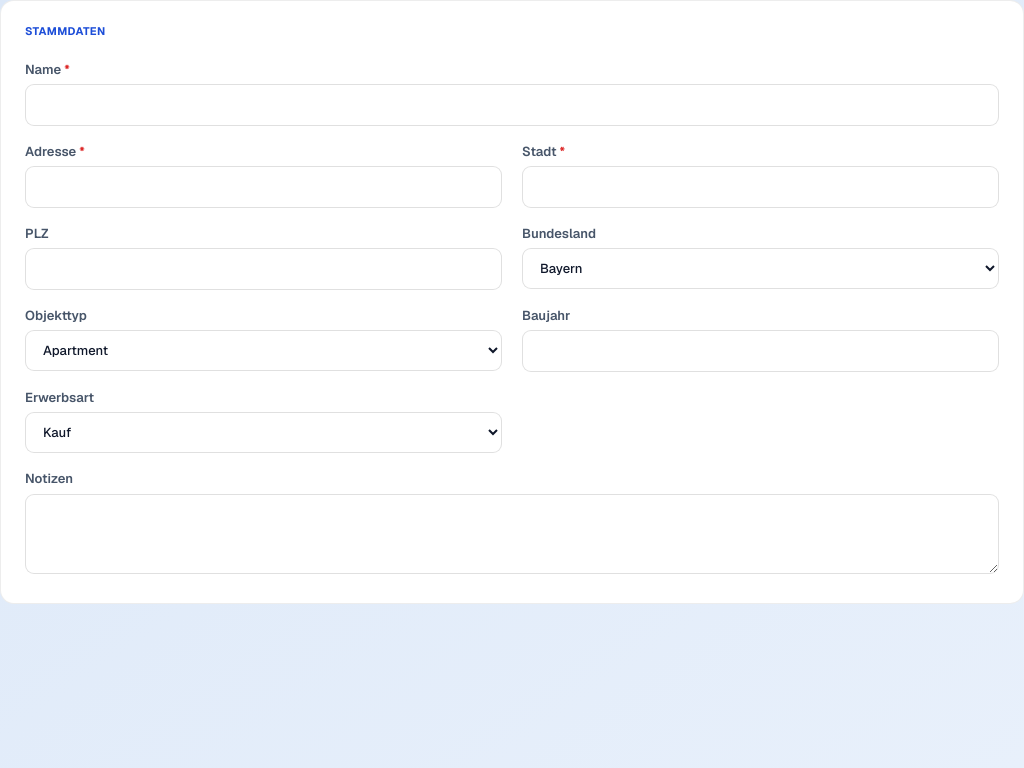
StepStammdaten Bundesland from PLZ › clears the Bundesland and names both candidates for an ambiguous PLZ
Type "65326" into the field labelled "PLZ" at (264, 269), box [25,248,502,290]
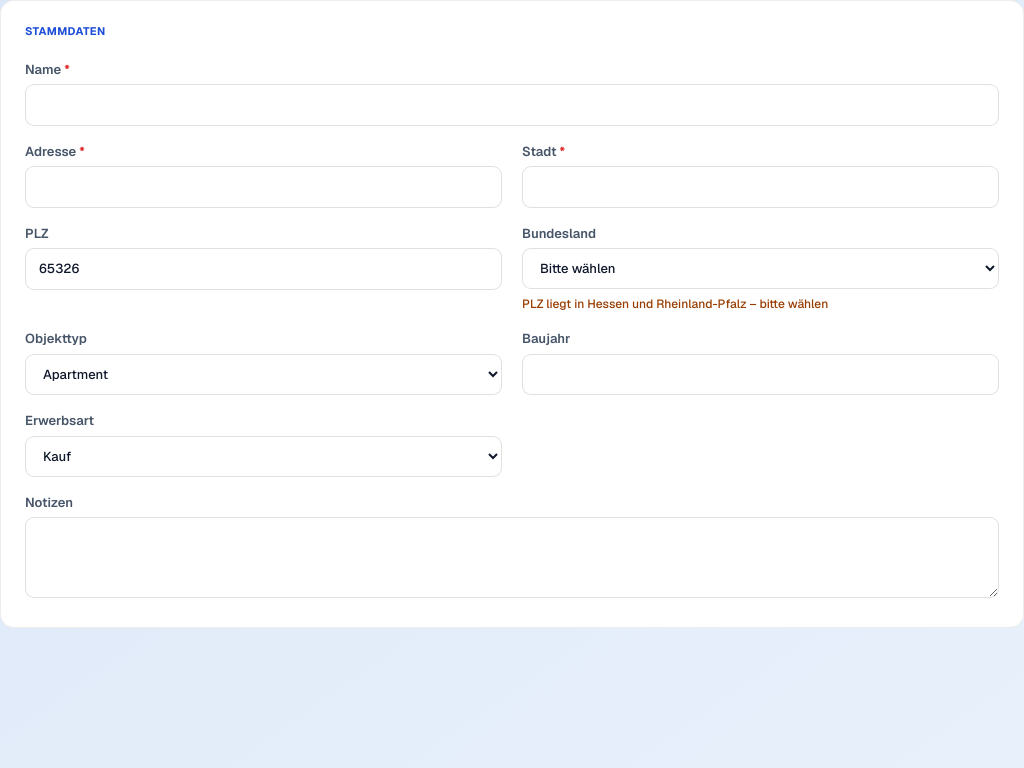
Expected: the text "PLZ liegt in Hessen und Rheinland-Pfalz – bitte wählen" is shown, [522,296,828,312]
Expected: the dropdown labelled "Bundesland" shows "Bitte wählen", [522,248,999,289]
